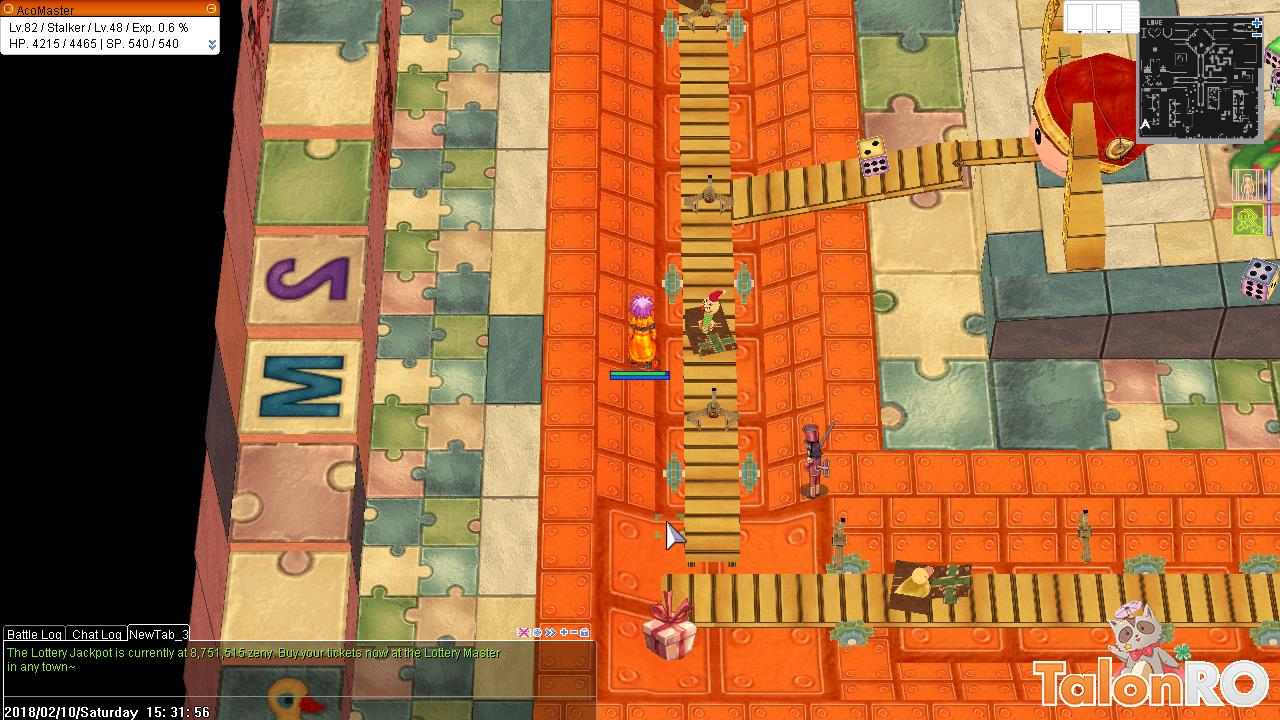mob: (638, 584, 701, 668), (793, 410, 838, 504)
